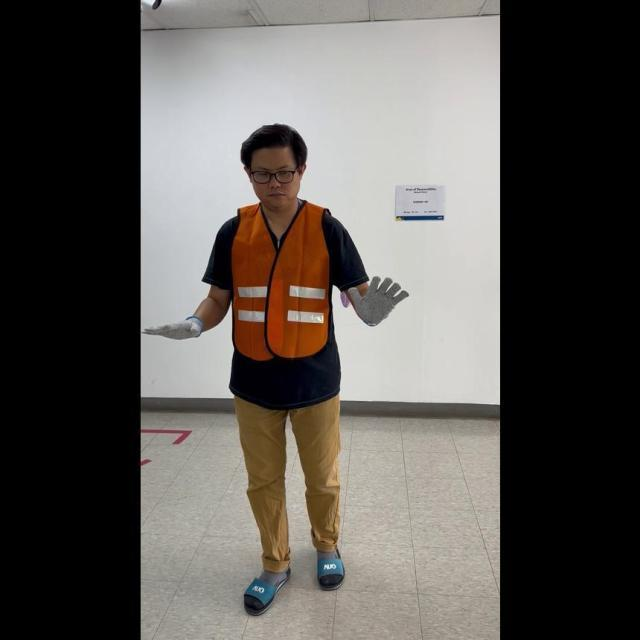gloved_hand: (344, 270, 408, 326), (144, 310, 204, 342)
